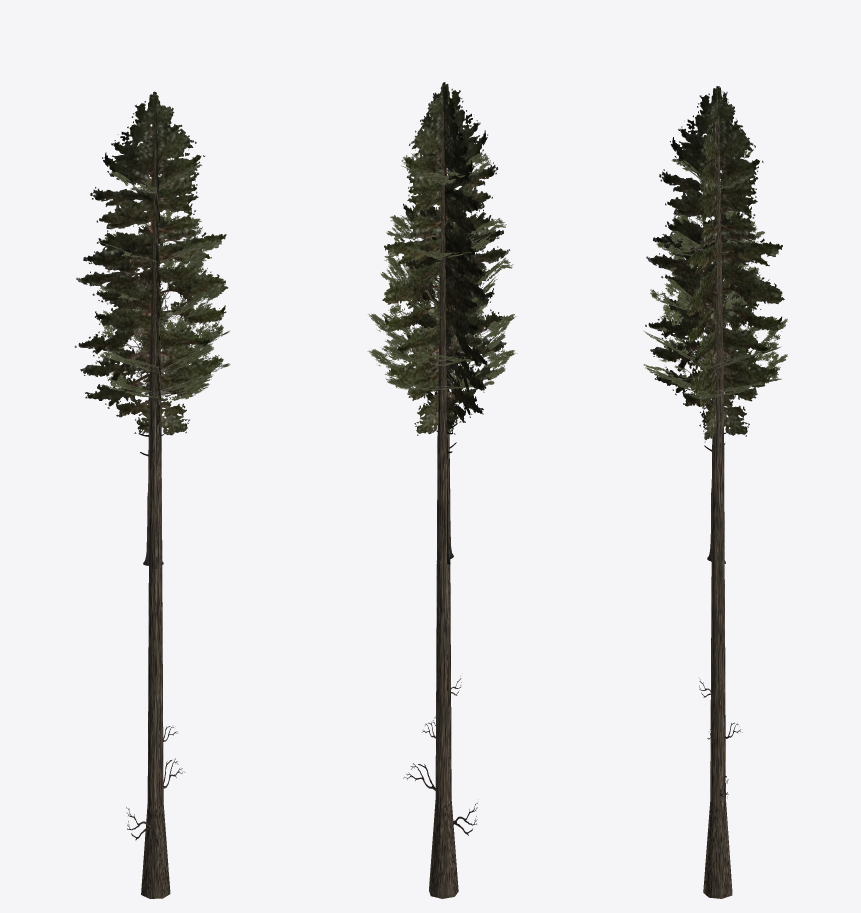
File: tree-fir.glb
3 renders of one model, left to right at view 1: azimuth 30°, elevation 25°; view 2: azimuth 150°, elevation 25°; view 3: azimuth 270°, elevation 25°, orthographic.
Parts seen in each view (by area): view 1: Cylinder.012; view 2: Cylinder.012; view 3: Cylinder.012.
Part boxes in pixels (x1=…): Cylinder.012: x1=74, y1=91, x2=230, y2=898; Cylinder.012: x1=367, y1=82, x2=517, y2=898; Cylinder.012: x1=643, y1=86, x2=787, y2=898.
Bounding box in the file's own units: 2.36 × 8.37 × 2.36.
4 materials, 4 textured.
